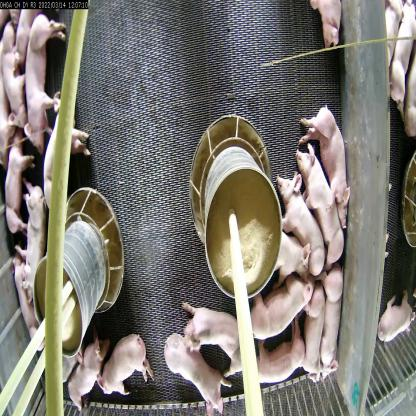Pig: (162, 331, 243, 415), (298, 96, 350, 219), (20, 11, 66, 144), (179, 294, 252, 377), (41, 90, 90, 204), (251, 266, 320, 341), (93, 328, 159, 402), (276, 170, 320, 277), (297, 147, 337, 257), (320, 264, 350, 369), (264, 213, 314, 275), (0, 139, 34, 228), (21, 180, 49, 287), (256, 338, 313, 390), (0, 21, 29, 117), (302, 284, 326, 387), (73, 339, 102, 403)
